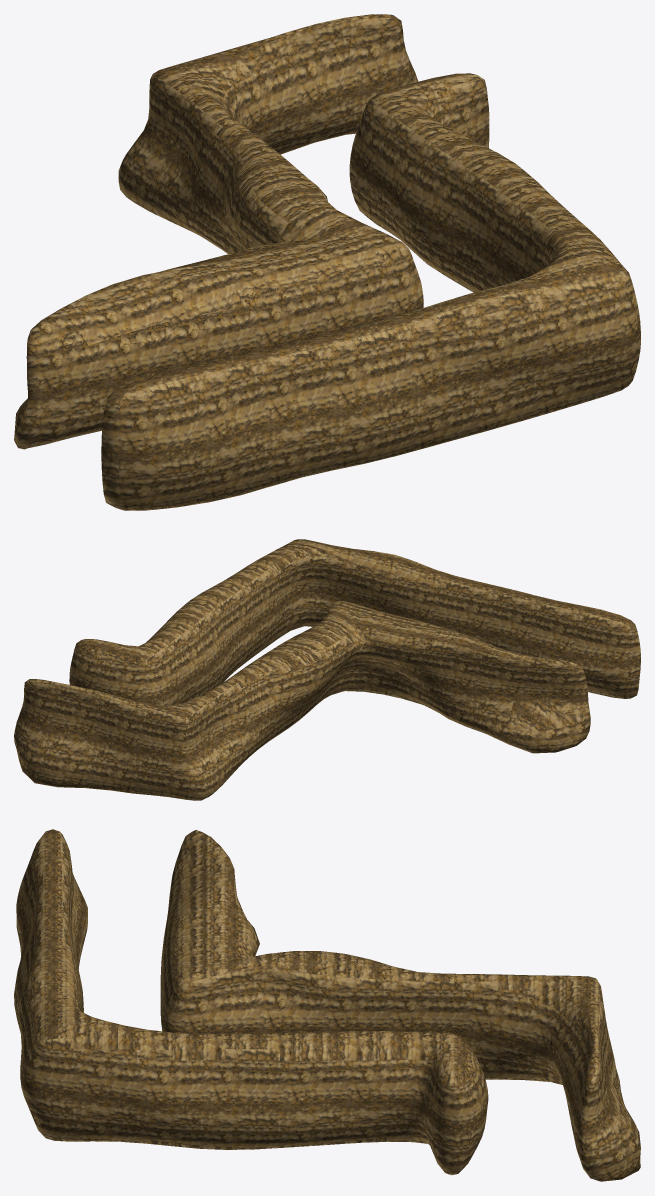
File: Walls.glb
3 renders of one model, top to bottom at view 1: azimuth 30°, elevation 25°; view 2: azimuth 150°, elevation 25°; view 3: azimuth 270°, elevation 25°, orthographic. The views are drawn at different scales.
Parts seen in each view (by area): view 1: Walls; view 2: Walls; view 3: Walls.
Part boxes in pixels (x1,y1,x2,y2): Walls: [14, 14, 640, 510]; Walls: [14, 539, 640, 800]; Walls: [14, 829, 640, 1181].
Size of what is drawn, in the model's own units: 10.97 by 2.3 by 11.
Materials: 1 (1 with a texture image).
